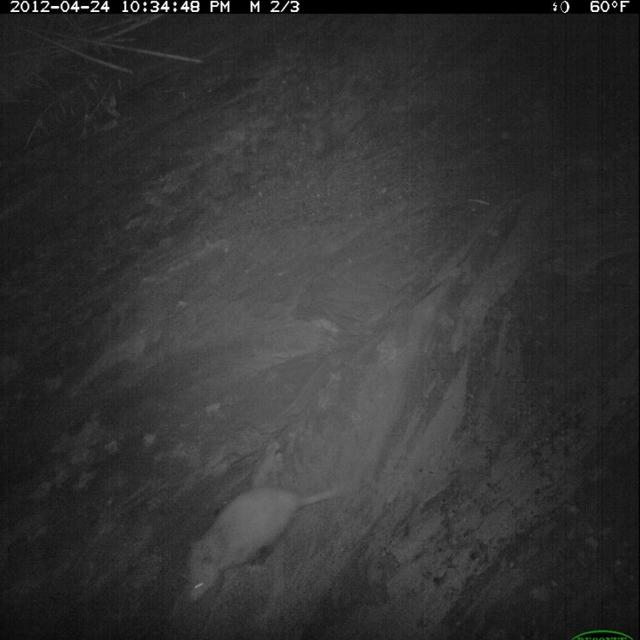opossum: (184, 477, 343, 608)
